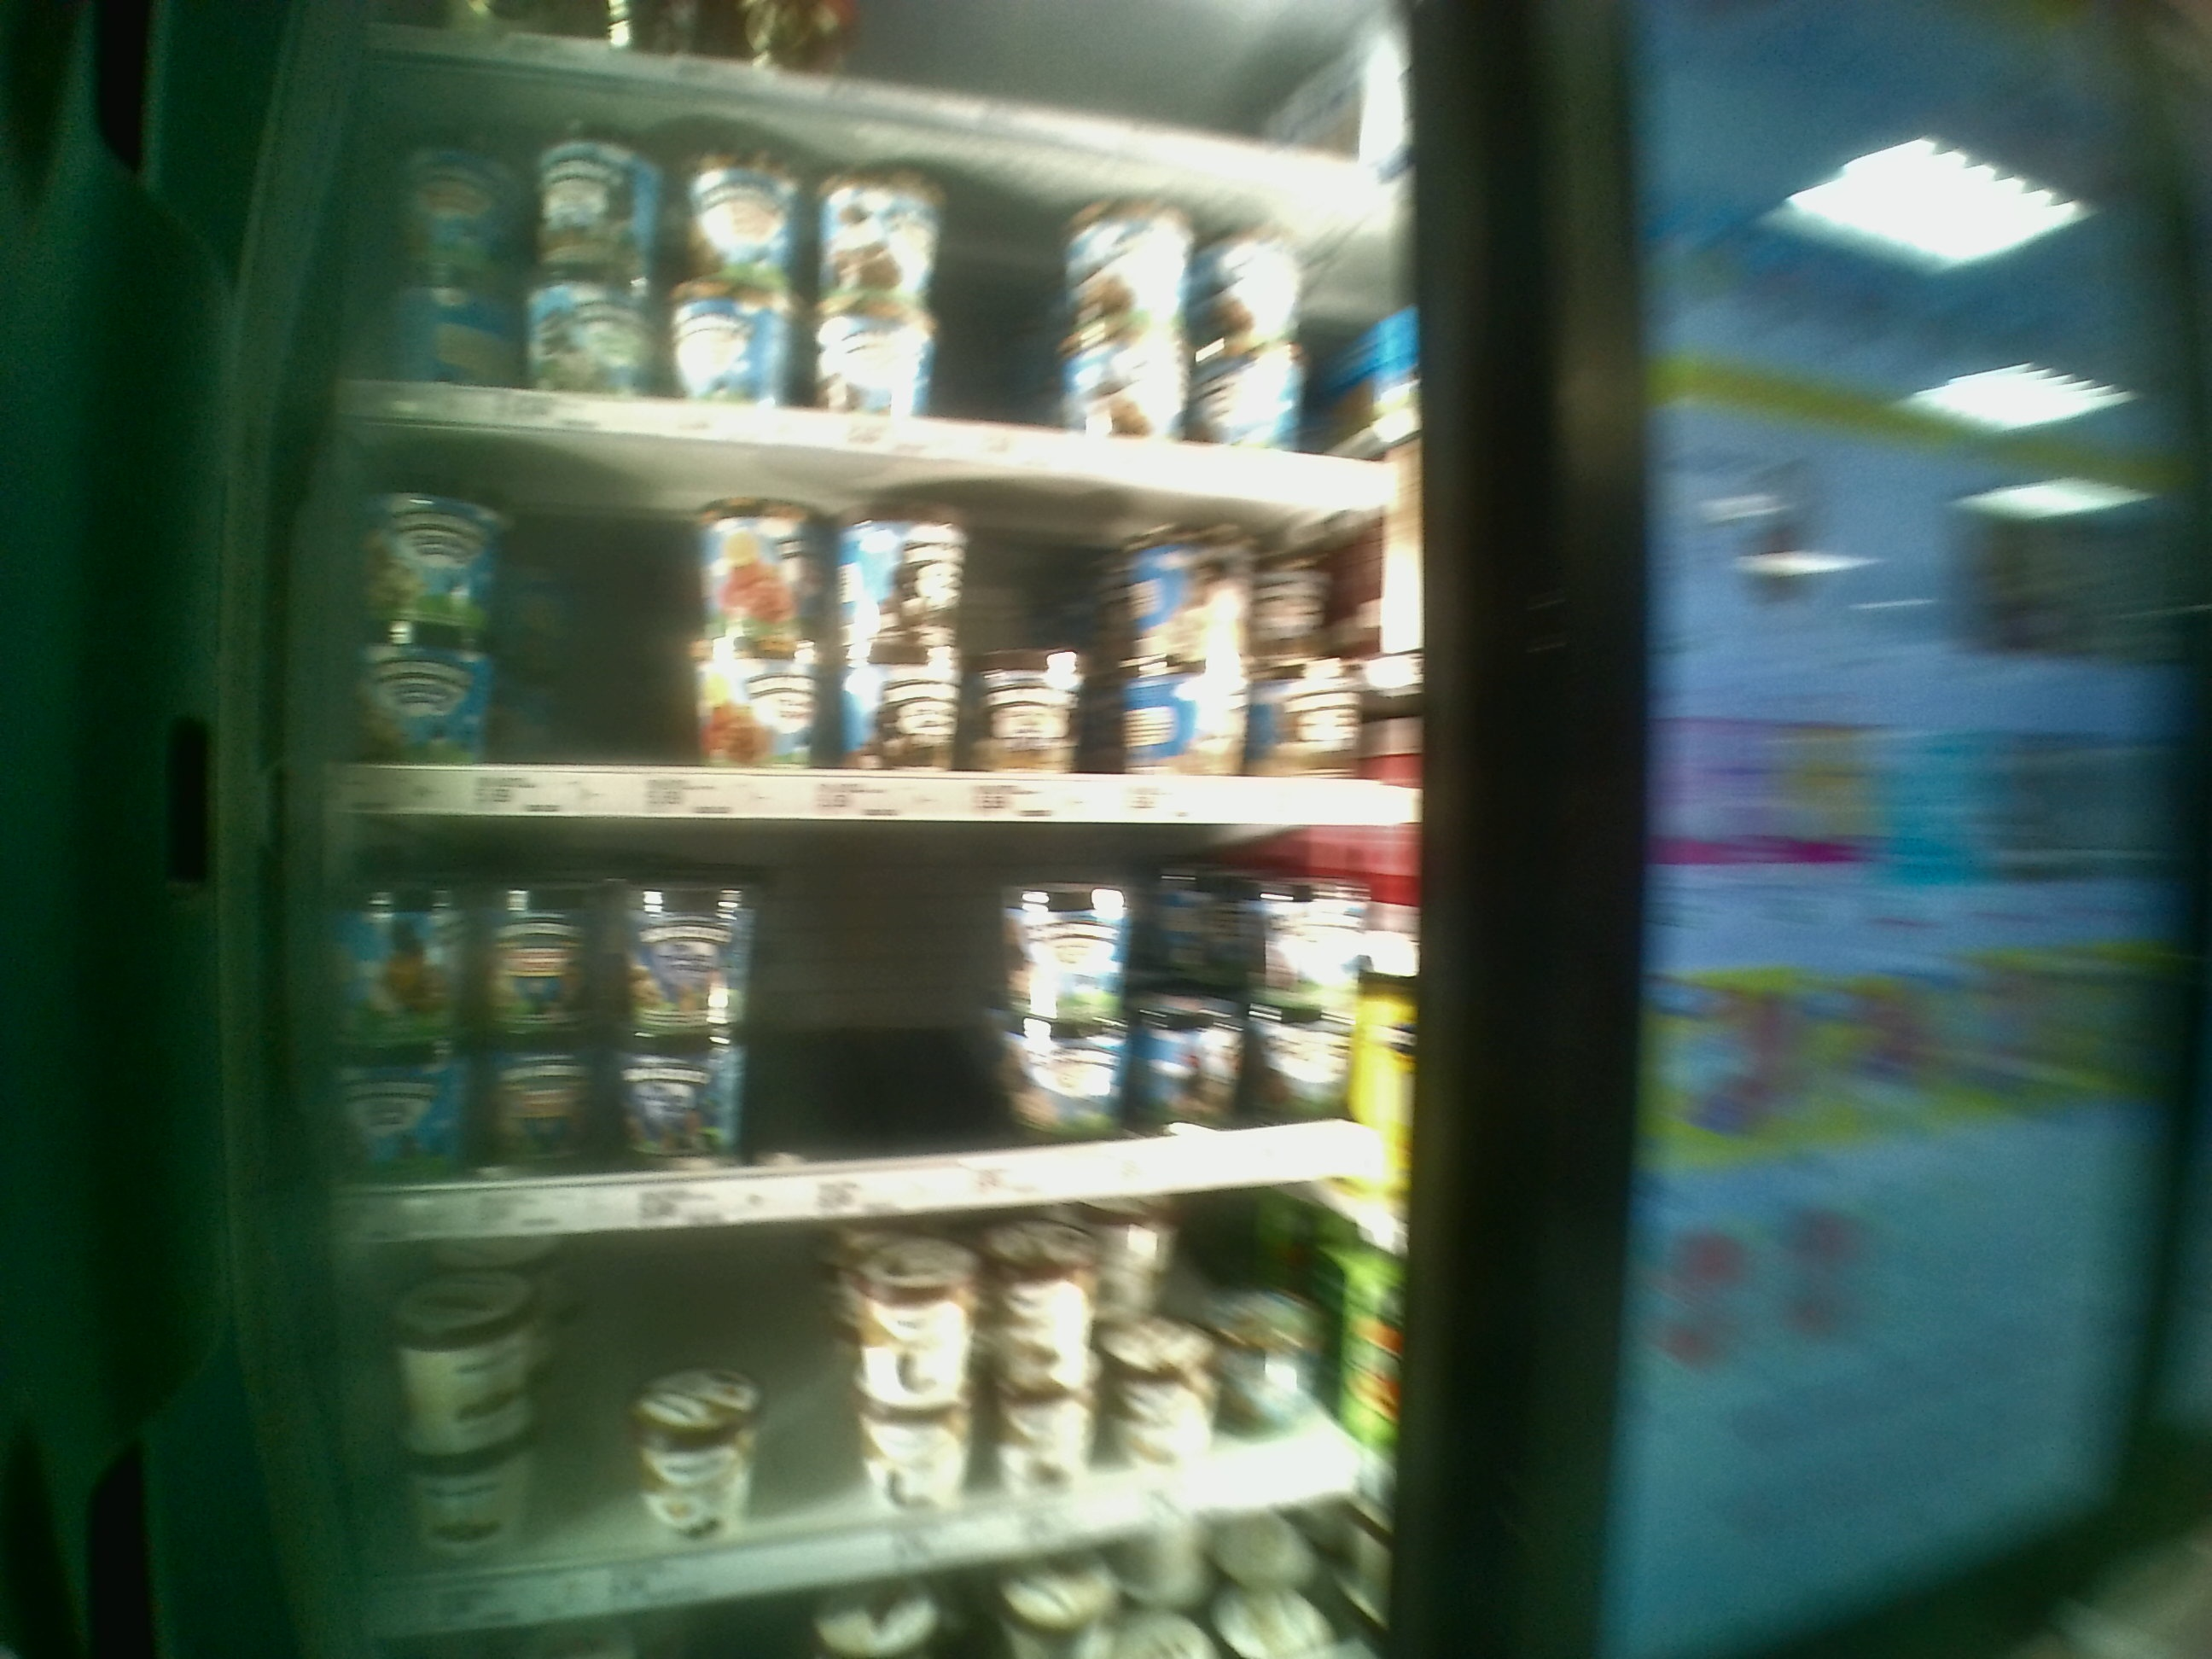shelf: (326, 823, 1404, 1230), (336, 420, 1404, 828)
